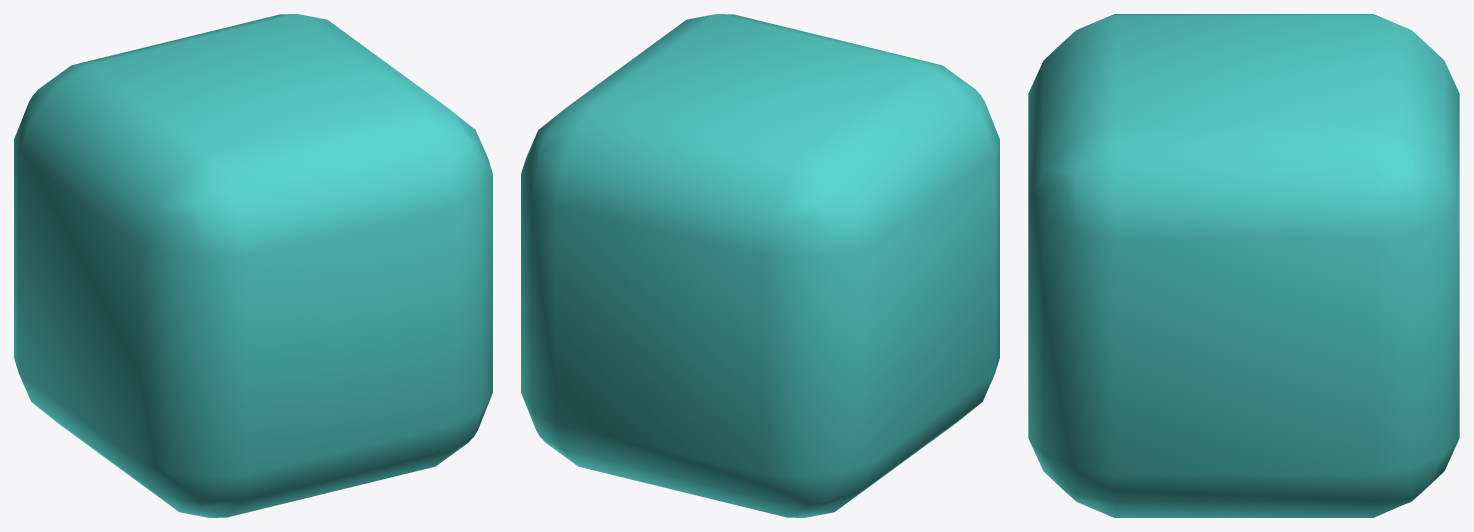
3 views of the same model, side by side, from view 1: azimuth 30°, elevation 25°; view 2: azimuth 150°, elevation 25°; view 3: azimuth 270°, elevation 25° (orthographic). The views are drawn at different scales.
Parts seen in each view (by area): view 1: Cube; view 2: Cube; view 3: Cube.
Part boxes in pixels (<box>): Cube: <box>14,14,492,517</box>; Cube: <box>521,14,999,517</box>; Cube: <box>1028,14,1459,517</box>.
Bounding box in the file's own units: 2 × 2 × 2.
